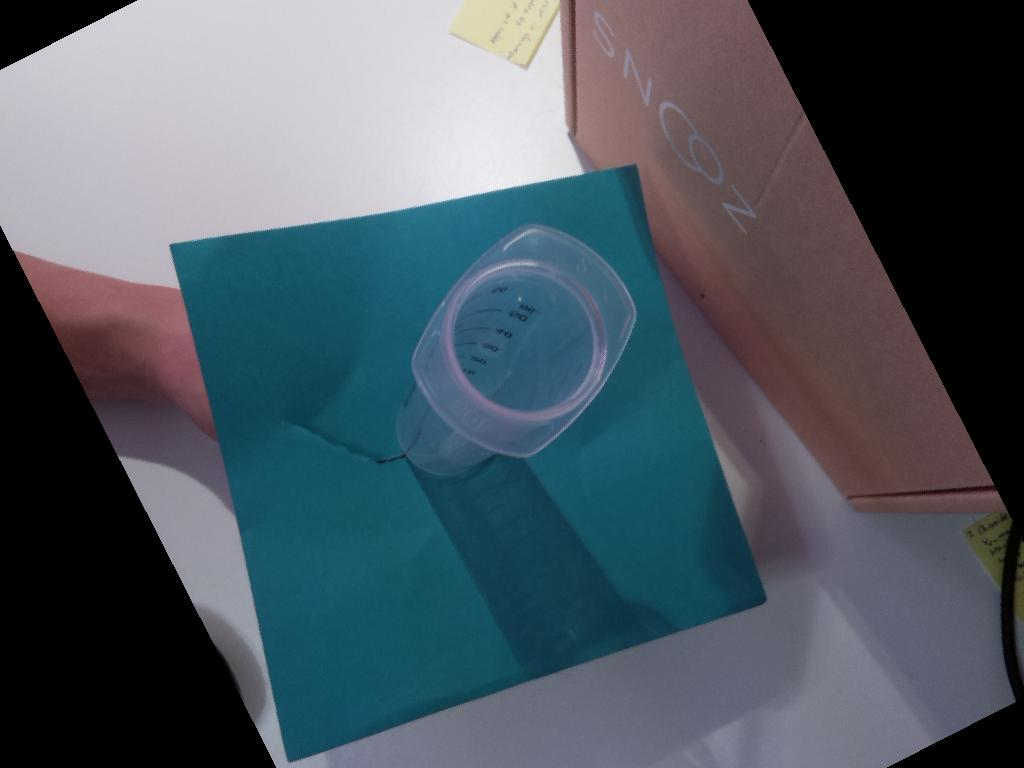clean: (410, 221, 636, 458)
